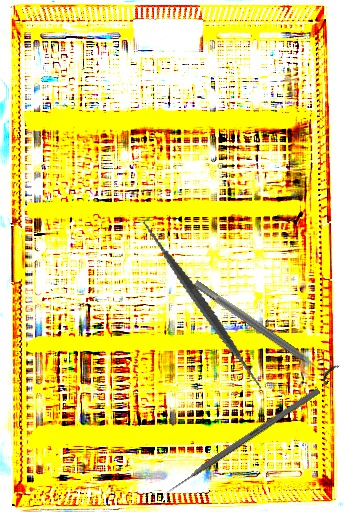Fixation Ring: (187, 271, 341, 388)
Pusher: (158, 387, 321, 500)
Spatula Surgical: (106, 211, 298, 400)
